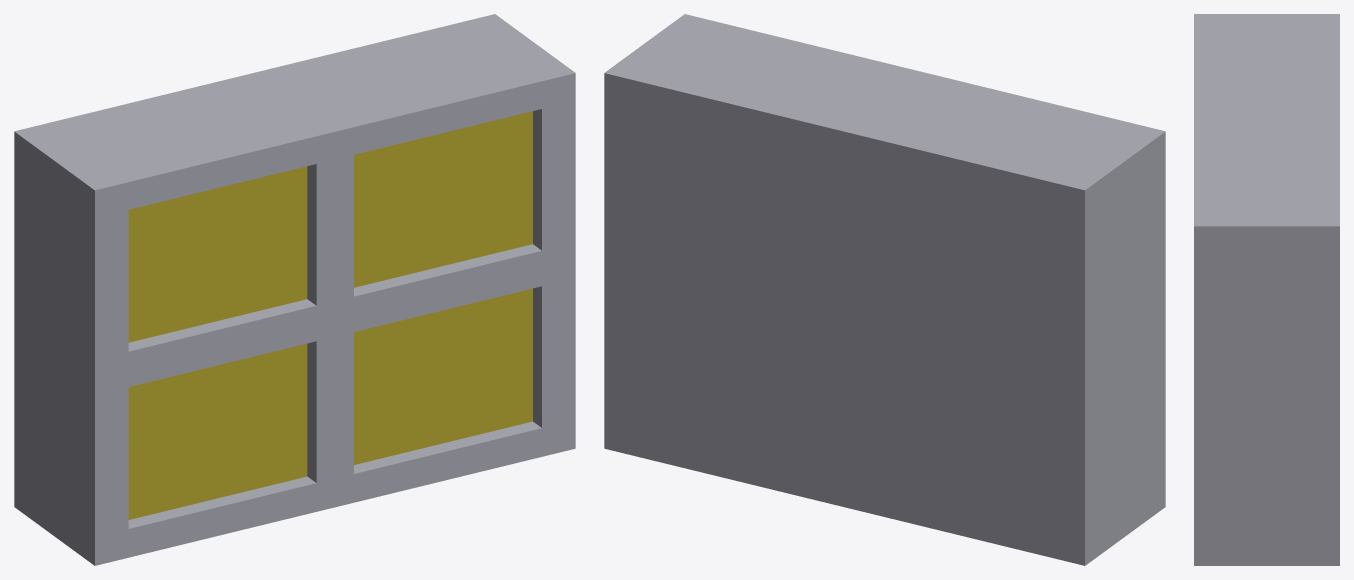
The model's file is spihd_window.gltf.
3 renders of one model, left to right at view 1: azimuth 30°, elevation 25°; view 2: azimuth 150°, elevation 25°; view 3: azimuth 270°, elevation 25°, orthographic. The views are drawn at different scales.
Visible parts, largest first — view 1: Window; view 2: Window; view 3: Window.
Boxes of the visible parts, x1,y1,x2,y2 form: Window: [14, 14, 575, 565]; Window: [604, 14, 1165, 565]; Window: [1194, 14, 1339, 565].
Bounding box in the file's own units: 1.6 × 1.19 × 0.4648.
